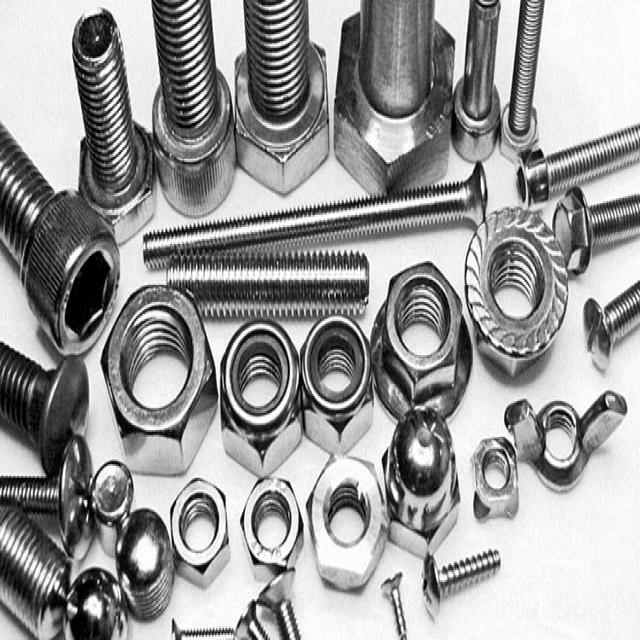Logam: (4, 101, 115, 370), (440, 177, 584, 382), (120, 169, 499, 240), (63, 1, 156, 255), (333, 0, 456, 181), (108, 262, 214, 469), (144, 0, 240, 218), (227, 0, 334, 187), (368, 256, 487, 417), (498, 387, 626, 509), (376, 409, 480, 556), (296, 442, 394, 595), (512, 83, 636, 200), (161, 457, 246, 606), (0, 432, 98, 560), (231, 302, 301, 472), (290, 314, 380, 442), (0, 341, 102, 444), (404, 536, 516, 616), (108, 502, 186, 616), (455, 440, 547, 530), (450, 0, 500, 162), (234, 467, 304, 574), (506, 0, 552, 154), (377, 560, 414, 640)
